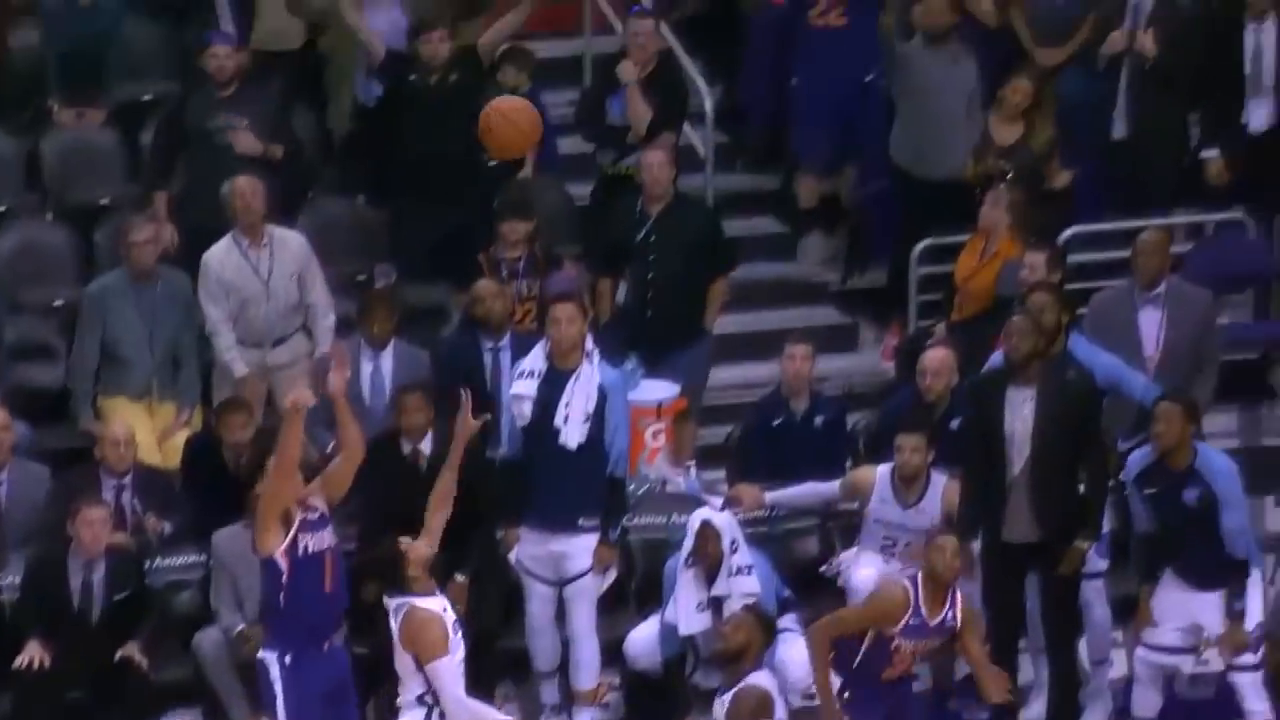ball: (481, 96, 544, 162)
